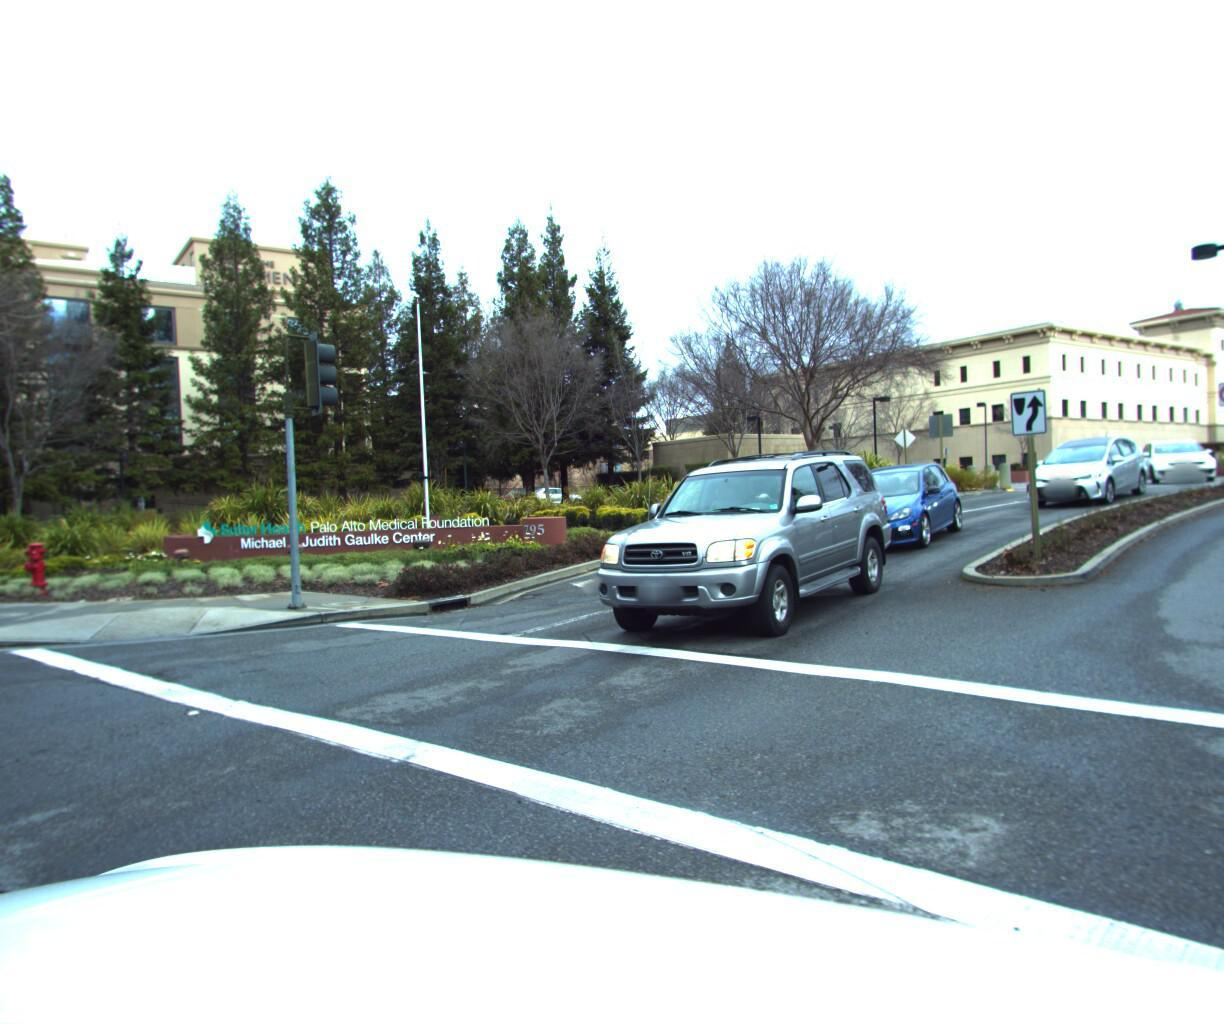car: (554, 437, 913, 660), (804, 451, 977, 551), (1006, 426, 1159, 505), (1121, 418, 1217, 478)
